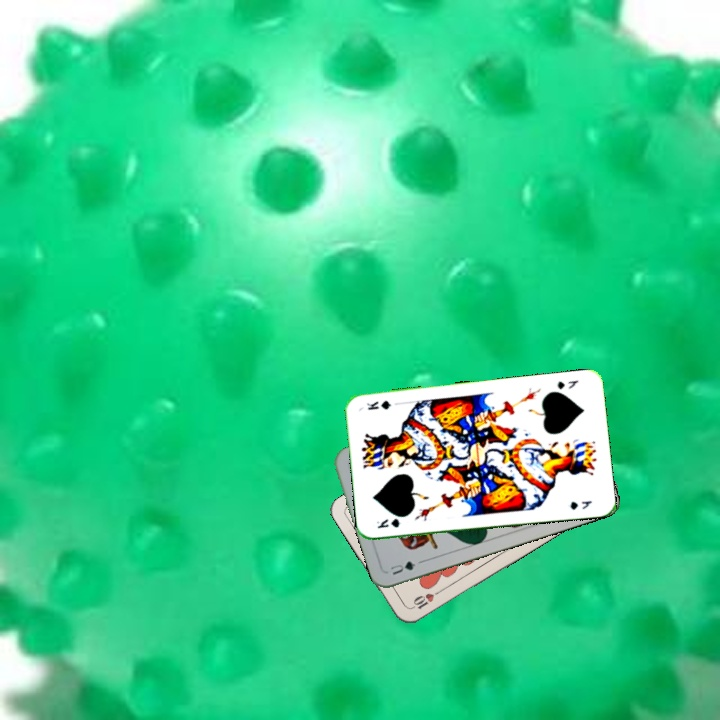GK: (373, 514, 404, 531), (553, 376, 581, 392)
GU: (386, 557, 418, 578)
H10: (407, 586, 444, 612)
